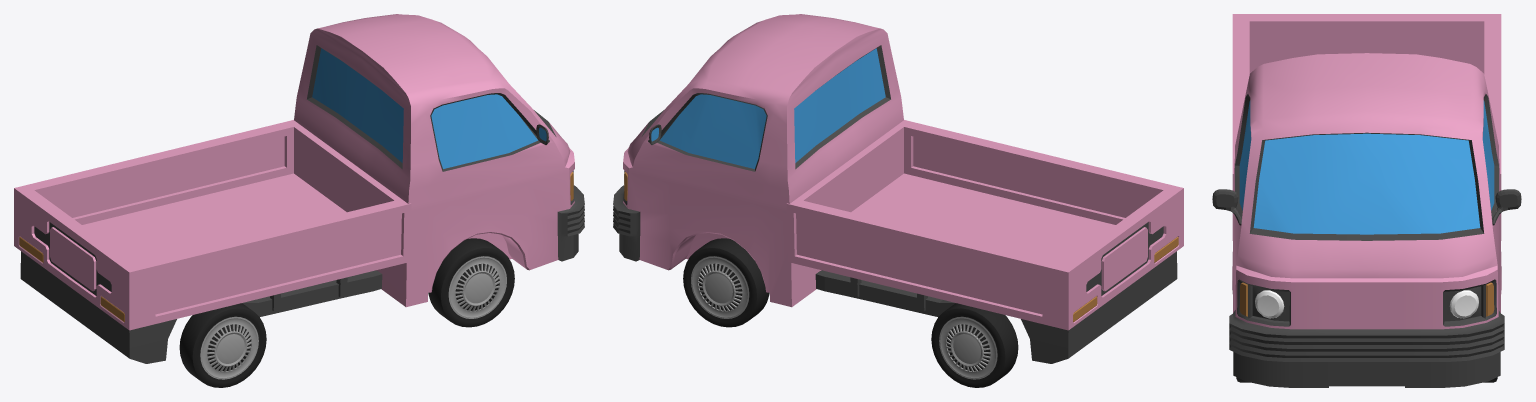
Rendered from MiniTruck.fbx.
The picture shows the model from 3 angles, left to right: view 1: azimuth 30°, elevation 25°; view 2: azimuth 150°, elevation 25°; view 3: azimuth 270°, elevation 25°; orthographic projection. The views are drawn at different scales.
Visible parts, largest first — view 1: Body.Built, WheelL.007, WheelL.006; view 2: Body.Built, WheelL.005, WheelL.004; view 3: Body.Built.
Part boxes in pixels (left/top/right/bottom): Body.Built: left=14, top=14, right=584, bottom=363; WheelL.007: left=179, top=303, right=266, bottom=387; WheelL.006: left=428, top=238, right=514, bottom=327; Body.Built: left=613, top=14, right=1183, bottom=363; WheelL.005: left=931, top=303, right=1018, bottom=387; WheelL.004: left=683, top=238, right=769, bottom=327; Body.Built: left=1212, top=14, right=1521, bottom=387.
Bounding box in the file's own units: 300 × 152 × 146.
